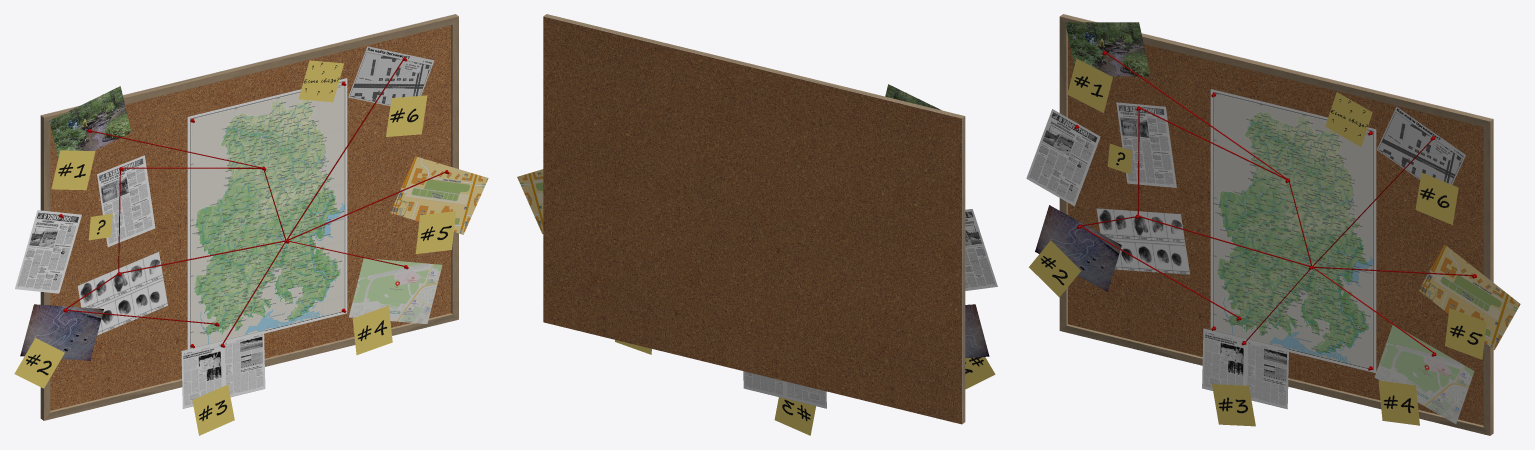
The model's file is detective_board.glb.
3 views of the same model, side by side, from view 1: azimuth 30°, elevation 25°; view 2: azimuth 150°, elevation 25°; view 3: azimuth 330°, elevation 25° (orthographic). The views are drawn at different scales.
Parts seen in each view (by area): view 1: Cube, map, Plane.015, Plane.014, Plane.016, Plane.011, Plane.009, Plane.008, Plane.010, Plane.012, Plane.013, Vert (+8 smaller); view 2: Cube, Plane.009, Plane.014, Plane, Plane.013, Plane.016, Plane.002; view 3: Cube, map, Plane.015, Plane.014, Plane.011, Plane.016, Plane.009, Plane.008, Plane.010, Plane.012, Plane.013, Vert (+8 smaller).
Boxes of the visible parts, x1,y1,x2,y2 form: Cube: [40, 14, 458, 420]; map: [187, 78, 347, 349]; Plane.015: [349, 258, 442, 323]; Plane.014: [181, 331, 265, 408]; Plane.016: [390, 156, 488, 234]; Plane.011: [77, 252, 167, 335]; Plane.009: [15, 210, 81, 293]; Plane.008: [97, 155, 155, 246]; Plane.010: [49, 86, 131, 157]; Plane.012: [348, 46, 434, 105]; Plane.013: [20, 304, 103, 360]; Vert: [66, 60, 444, 343]; Cube: [543, 14, 965, 424]; Plane.009: [965, 209, 997, 290]; Plane.014: [743, 371, 826, 408]; Plane: [774, 397, 815, 435]; Plane.013: [965, 304, 989, 358]; Plane.016: [517, 169, 543, 233]; Plane.002: [965, 357, 995, 389]; Cube: [1059, 14, 1493, 435]; map: [1210, 89, 1376, 372]; Plane.015: [1374, 325, 1474, 423]; Plane.014: [1202, 328, 1288, 409]; Plane.011: [1096, 208, 1189, 274]; Plane.016: [1418, 244, 1520, 349]; Plane.009: [1026, 109, 1100, 206]; Plane.008: [1116, 102, 1176, 187]; Plane.010: [1065, 22, 1150, 76]; Plane.012: [1376, 106, 1465, 184]; Plane.013: [1035, 205, 1121, 291]; Vert: [1081, 53, 1473, 352].
Size of the model in its own units: 1.53 by 1.13 by 0.0341.
1 material, 1 textured.
